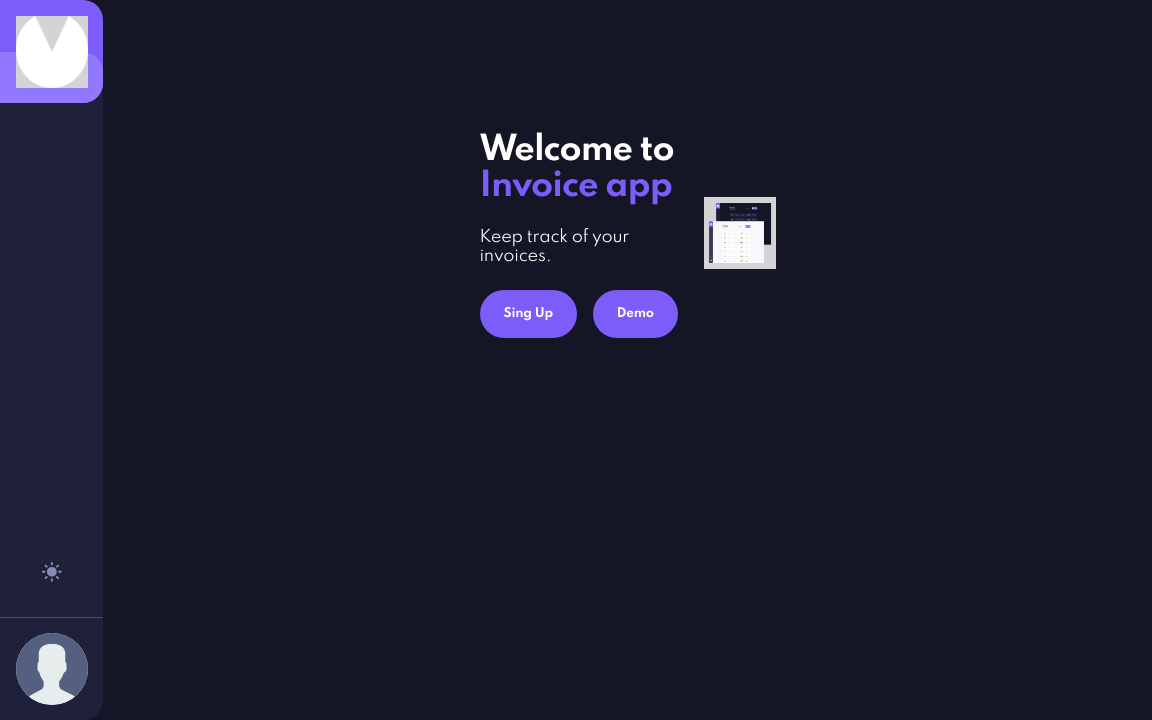
demo mode › should opne and close edit form
This screenshot has width=1152, height=720.
Click the button "Demo" at (636, 314), box [593,290,678,338]
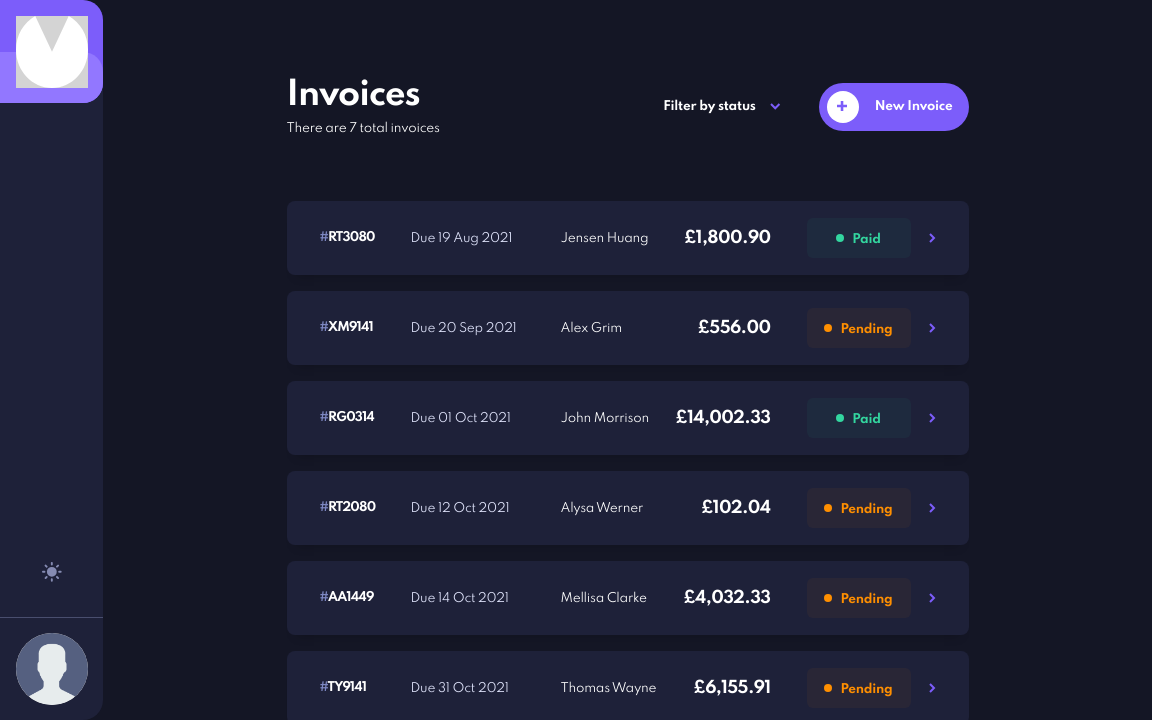
Click the text "Alex Grim" at (592, 329), box [561,321,622,336]
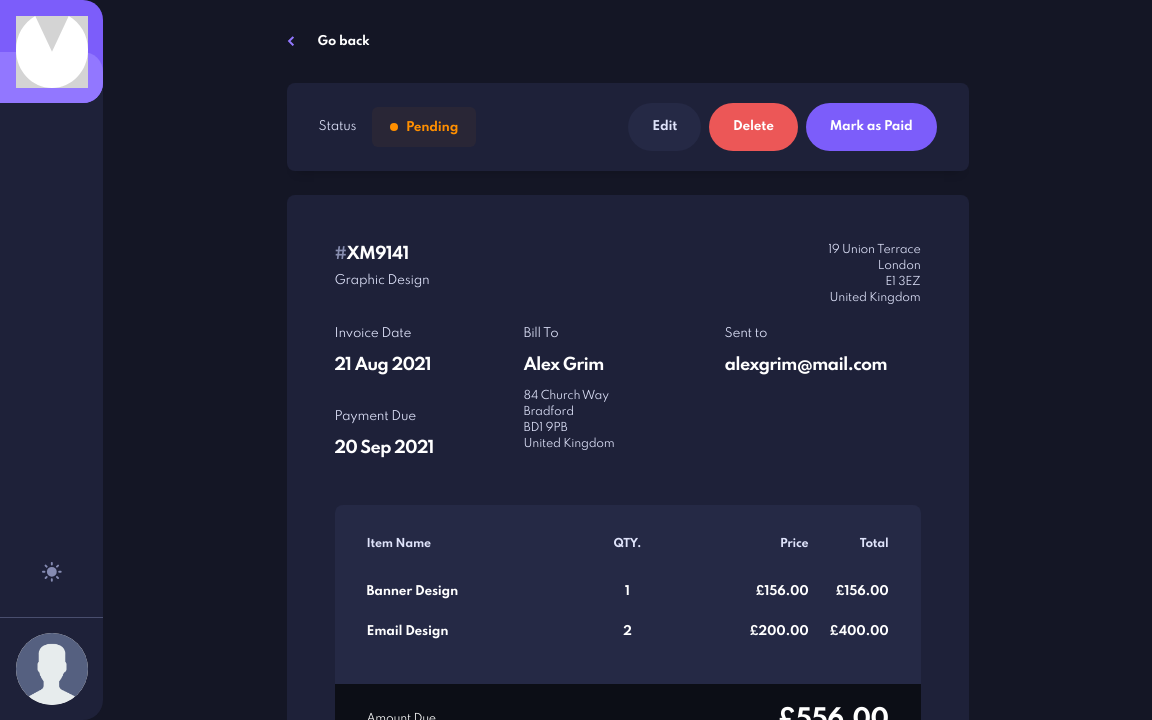
Click the button "Edit" at (665, 127), box [628,103,701,151]
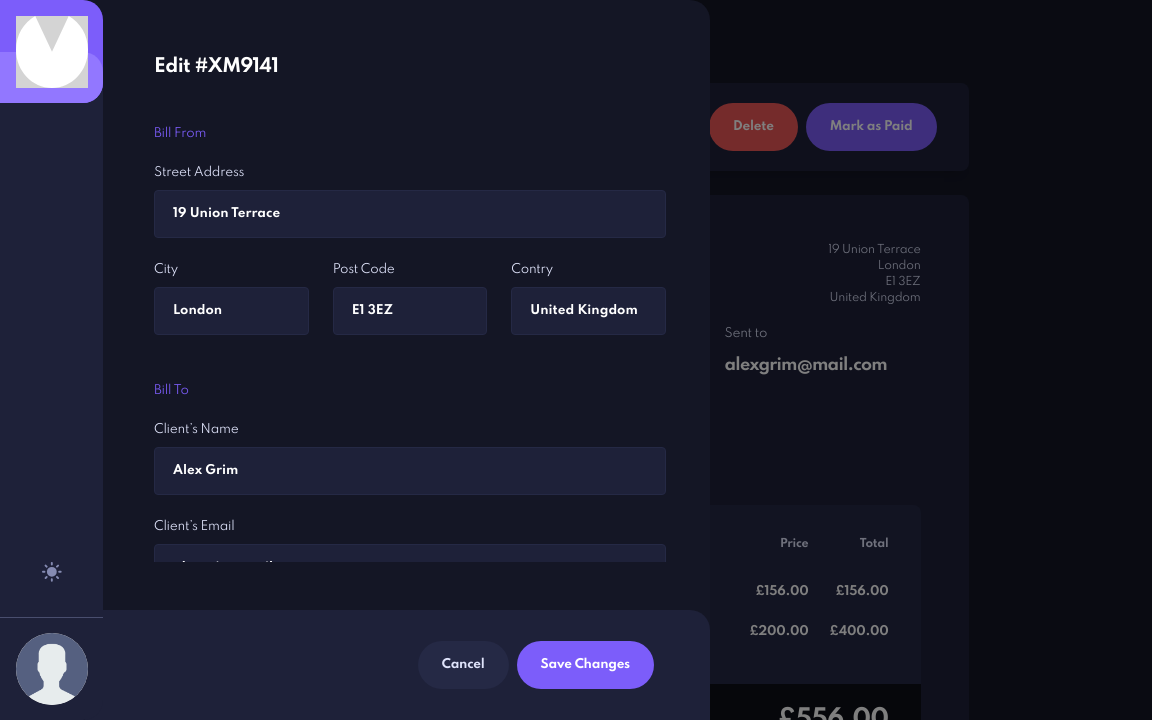
Expected: the form is shown, [85,0,710,719]
Click the button "Cancel" at (464, 665), box [418,641,509,689]
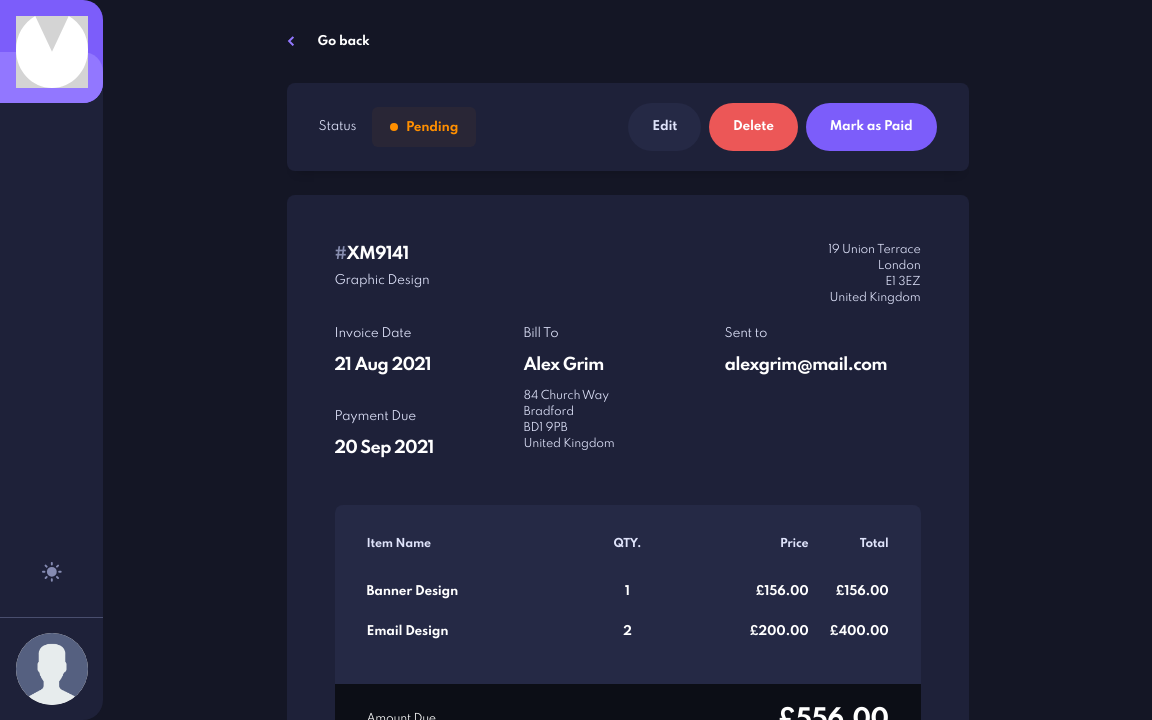
Expected: the form is gone
